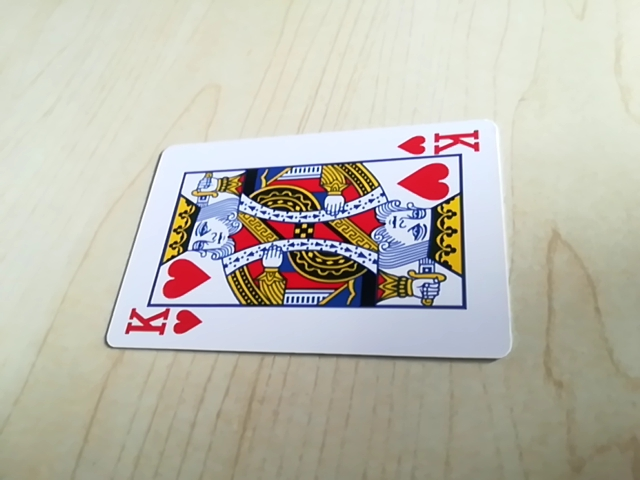hx k: (122, 304, 205, 342), (396, 127, 486, 159)
